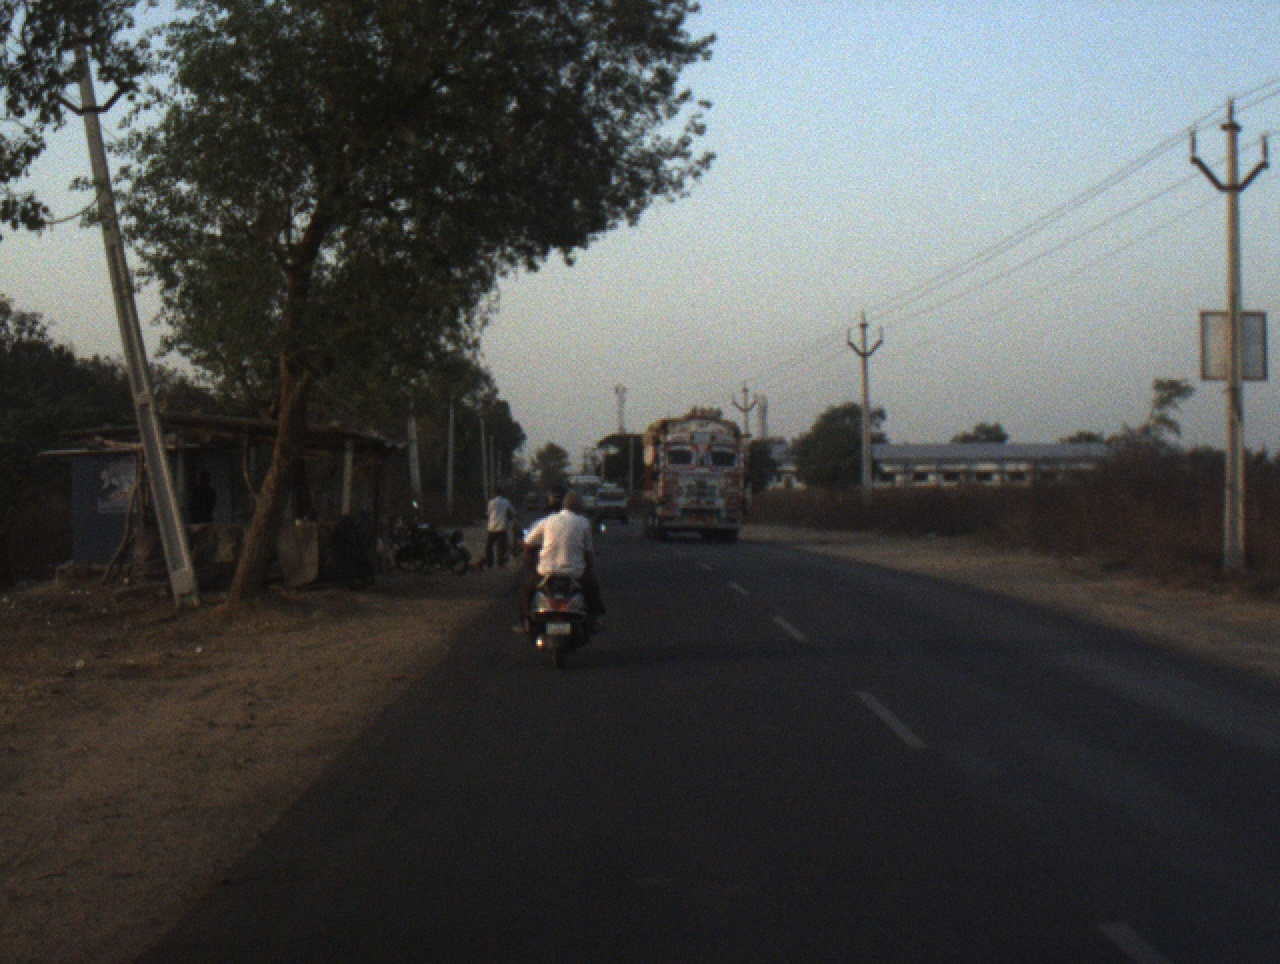bicycle: (501, 512, 525, 560)
bus: (567, 471, 601, 515)
car: (588, 481, 632, 529)
motorcycle: (519, 518, 609, 677), (393, 499, 476, 581)
person: (191, 470, 223, 529)
rider: (512, 490, 608, 641), (482, 486, 518, 569), (533, 484, 571, 517)
truck: (640, 411, 751, 545)
vehicle fallback: (526, 490, 541, 512)
